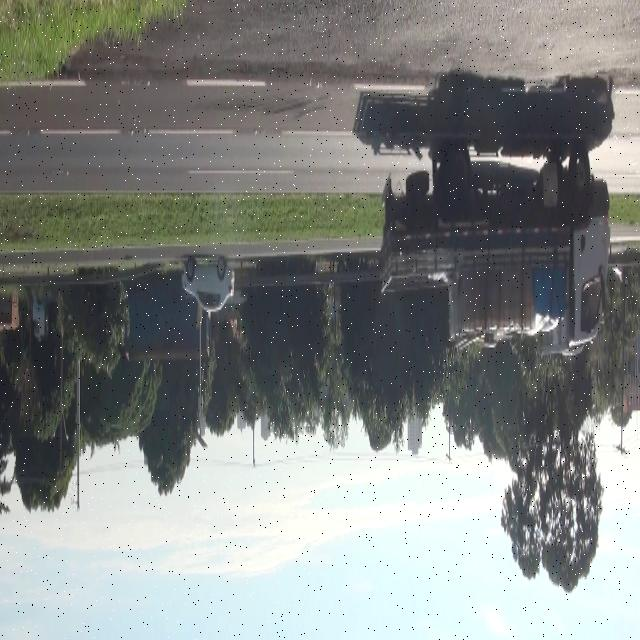-axle: (449, 143, 471, 214), (569, 140, 591, 208)
